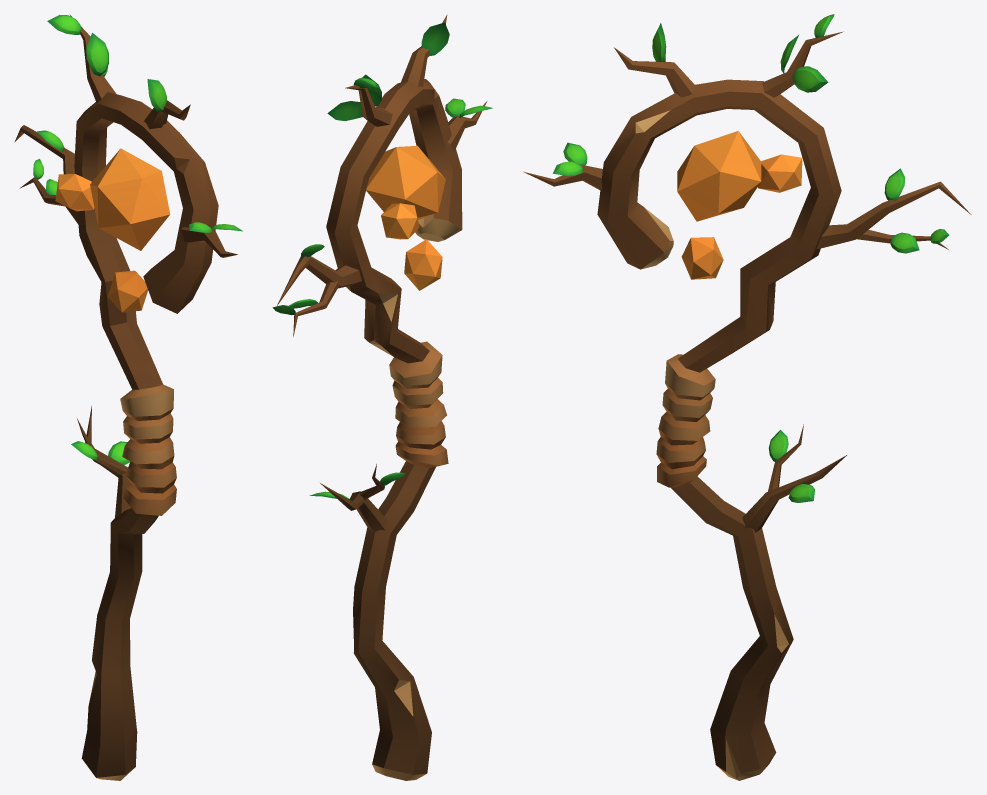
The model's file is DruidStaff_1_1_A.glb.
The picture shows the model from 3 angles, left to right: view 1: azimuth 30°, elevation 25°; view 2: azimuth 150°, elevation 25°; view 3: azimuth 270°, elevation 25°; orthographic projection. The views are drawn at different scales.
Visible parts, largest first — view 1: DruidStaff_1_1_A; view 2: DruidStaff_1_1_A; view 3: DruidStaff_1_1_A.
Part boxes in pixels (x1=…): DruidStaff_1_1_A: x1=14, y1=14, x2=242, y2=780; DruidStaff_1_1_A: x1=272, y1=14, x2=492, y2=780; DruidStaff_1_1_A: x1=523, y1=14, x2=971, y2=780.
Size of the model in its own units: 0.1786 by 1.35 by 0.7322.
2 materials, 2 textured.
